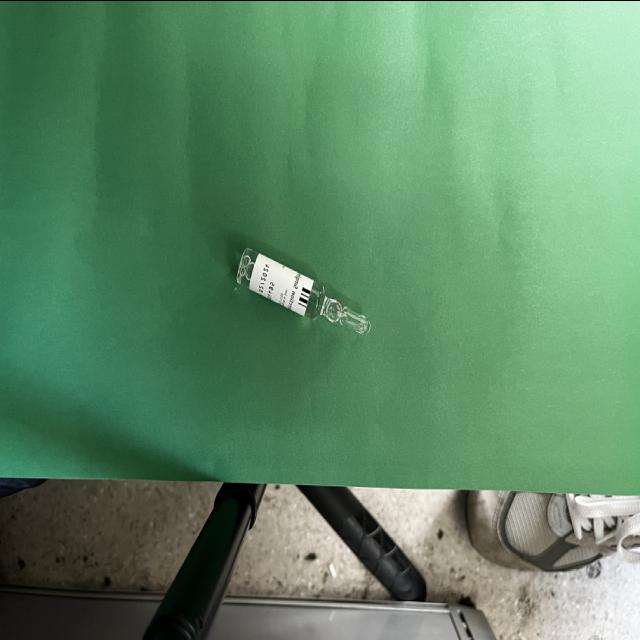Ampoules: (235, 247, 371, 334)
